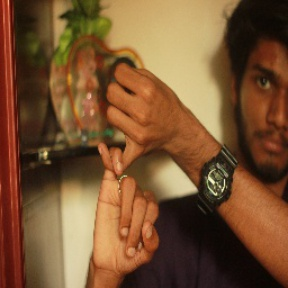S: (87, 59, 178, 272)
